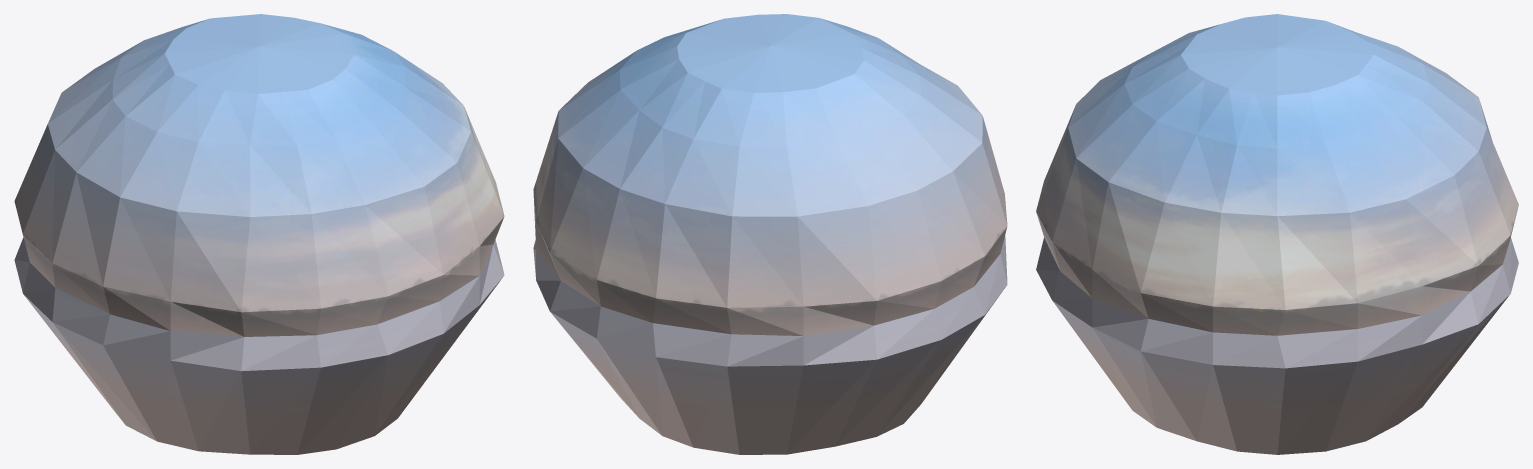
Rendered from C1M2SKY.obj.
3 renders of one model, left to right at view 1: azimuth 30°, elevation 25°; view 2: azimuth 150°, elevation 25°; view 3: azimuth 270°, elevation 25°, orthographic.
Parts seen in each view (by area): view 1: Node 0; view 2: Node 0; view 3: Node 0.
Part boxes in pixels (left/top/right/bottom): Node 0: left=14, top=14, right=504, bottom=454; Node 0: left=533, top=14, right=1007, bottom=454; Node 0: left=1036, top=14, right=1518, bottom=454.
Bounding box in the file's own units: 0.6 × 0.53 × 0.6.
Materials: 8 (8 with a texture image).
